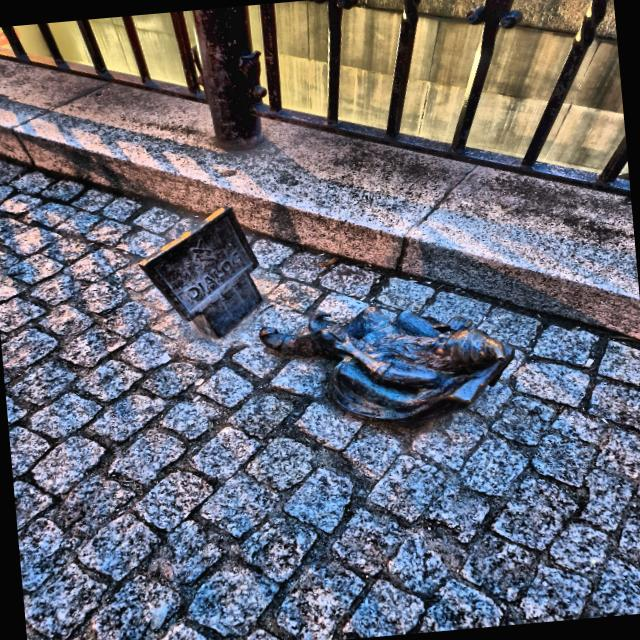Dialogomir: (258, 307, 516, 423), (138, 208, 265, 340)
